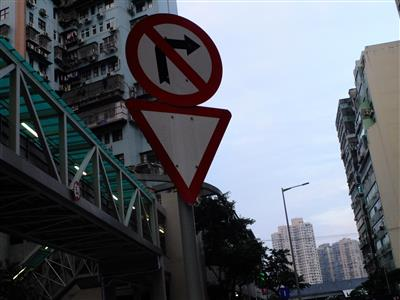5mHeightLimit: (71, 180, 82, 200)
noRightTurn: (124, 11, 223, 109)
yield: (122, 95, 233, 207)
